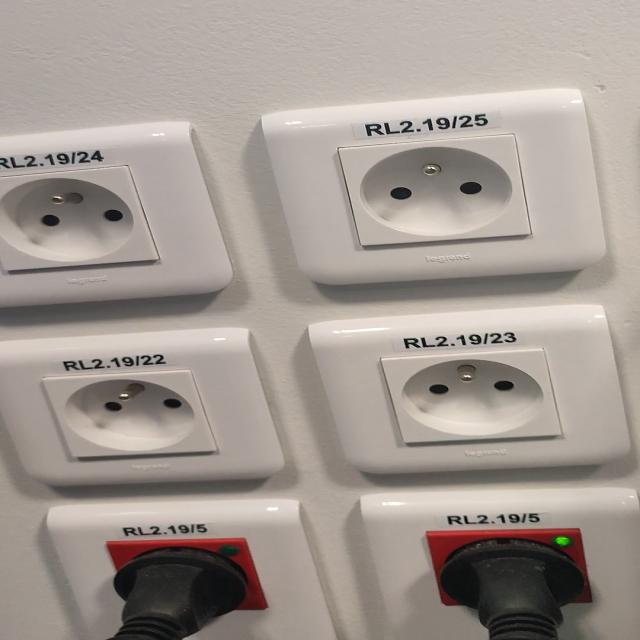house plug: (341, 134, 532, 247), (384, 349, 564, 446), (0, 167, 157, 271), (43, 370, 216, 457)
